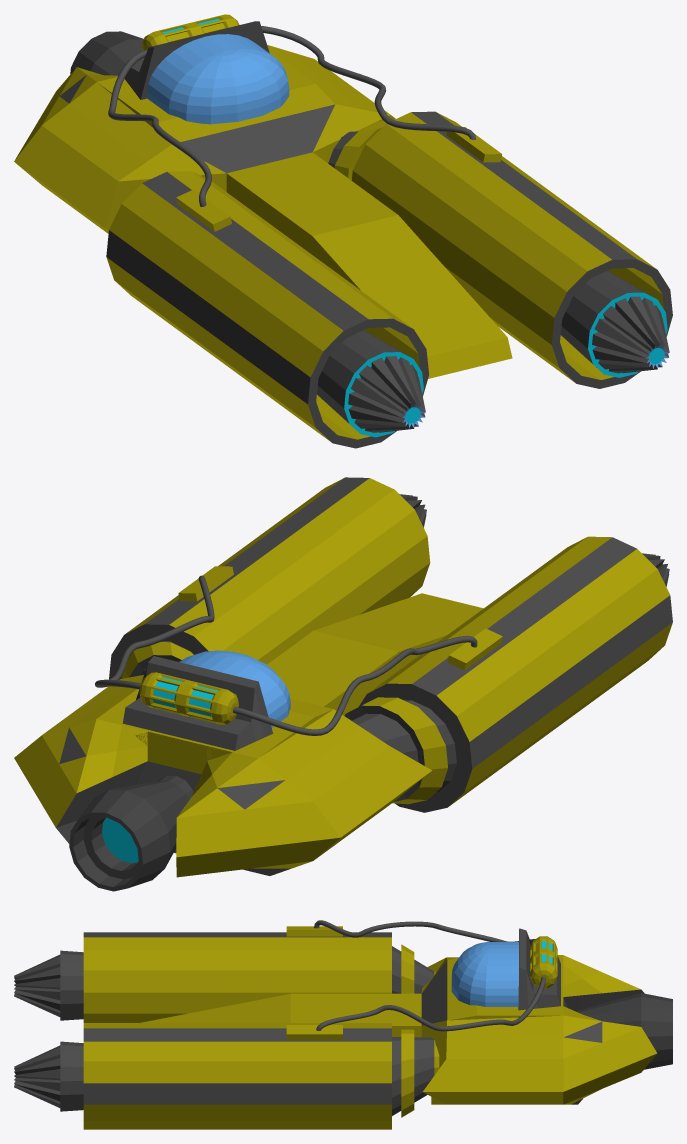
Rendered from blieOIVNQBINEAZLHKEZILVBBMKVRSQJIVHIQZ.fbx.
The picture shows the model from 3 angles, top to bottom: view 1: azimuth 30°, elevation 25°; view 2: azimuth 150°, elevation 25°; view 3: azimuth 270°, elevation 25°; orthographic projection. The views are drawn at different scales.
Parts seen in each view (by area): view 1: Cube, BézierCurve.001, BézierCurve; view 2: Cube, BézierCurve, BézierCurve.001; view 3: Cube, BézierCurve.001, BézierCurve.
Boxes of the visible parts, bbox=[...] form: Cube: bbox=[14, 14, 672, 448]; BézierCurve.001: bbox=[261, 26, 475, 139]; BézierCurve: bbox=[108, 49, 212, 206]; Cube: bbox=[14, 477, 672, 891]; BézierCurve: bbox=[233, 635, 477, 735]; BézierCurve.001: bbox=[95, 575, 214, 689]; Cube: bbox=[14, 926, 672, 1129]; BézierCurve.001: bbox=[316, 976, 545, 1031]; BézierCurve: bbox=[314, 920, 535, 943].
Size of the model in its own units: 600 by 271 by 1227.
